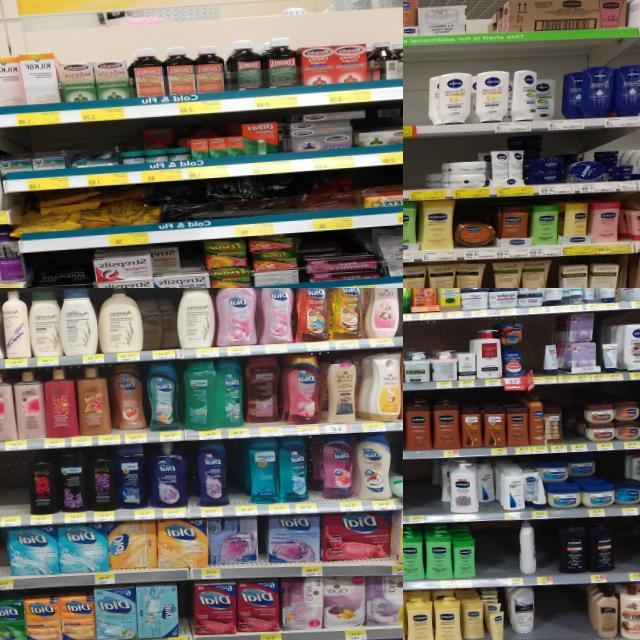empty: (474, 522, 520, 586), (0, 456, 28, 528), (403, 459, 432, 523), (535, 585, 568, 640), (534, 520, 560, 584), (614, 519, 640, 581), (403, 71, 427, 137), (566, 586, 592, 640), (228, 444, 245, 516), (403, 144, 424, 199), (564, 398, 582, 451), (531, 328, 543, 384)
